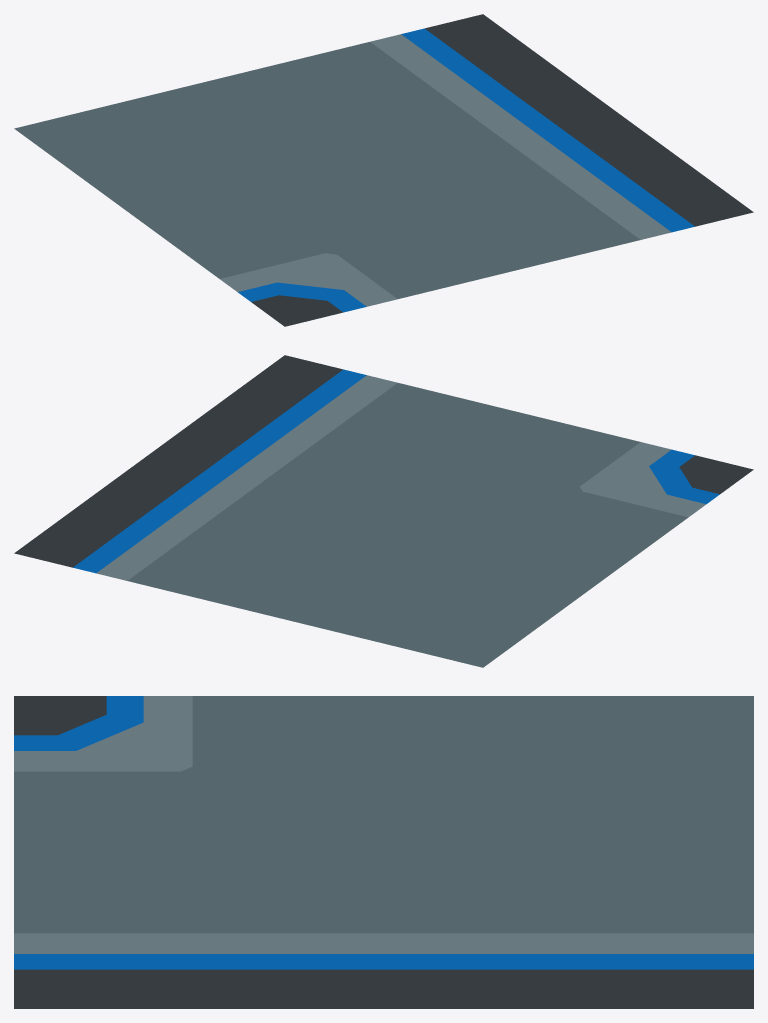
The model's file is Ceiling_type_C_008.002.fbx.
3 views of the same model, one above another, from view 1: azimuth 30°, elevation 25°; view 2: azimuth 150°, elevation 25°; view 3: azimuth 270°, elevation 25° (orthographic). The views are drawn at different scales.
Visible parts, largest first — view 1: Ceiling_type_C_008.002; view 2: Ceiling_type_C_008.002; view 3: Ceiling_type_C_008.002.
Boxes of the visible parts, x1,y1,x2,y2 form: Ceiling_type_C_008.002: [14, 14, 753, 326]; Ceiling_type_C_008.002: [14, 355, 753, 667]; Ceiling_type_C_008.002: [14, 696, 753, 1008].
Bounding box in the file's own units: 400 × 400 × 4.55.
